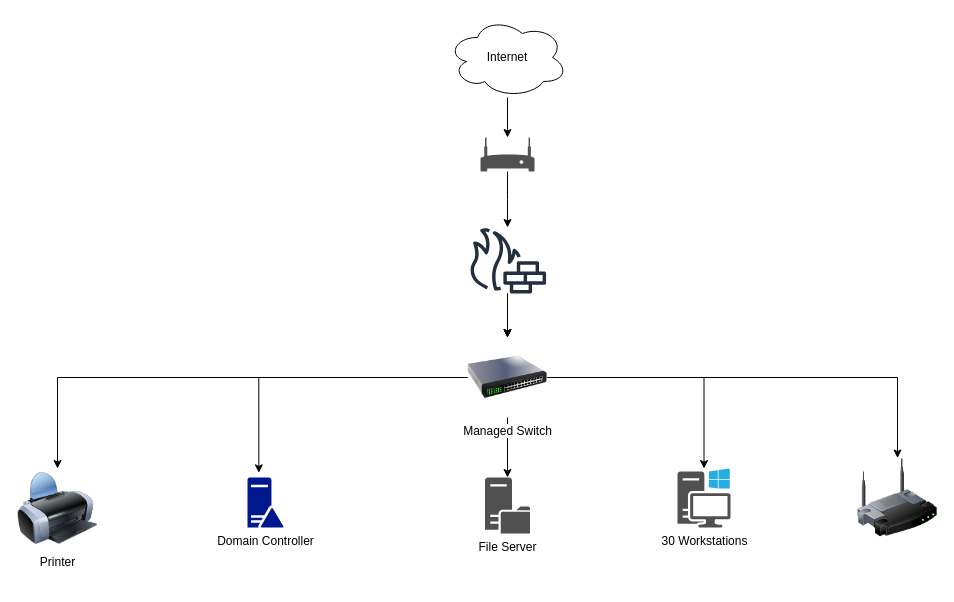
Image size: 954x602. Some labels were removed from this diagram. The centre of each missing label's shape, as x and y in pixels:
"Firewall" belongs at point (507, 260).
"ISP Modem" belongs at point (507, 154).
"Wi-Fi AP" belongs at point (897, 498).
